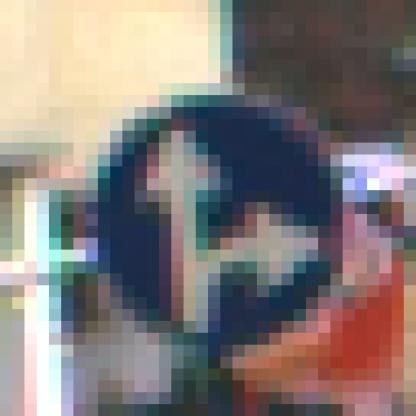Straight or Right: (62, 72, 344, 346)
